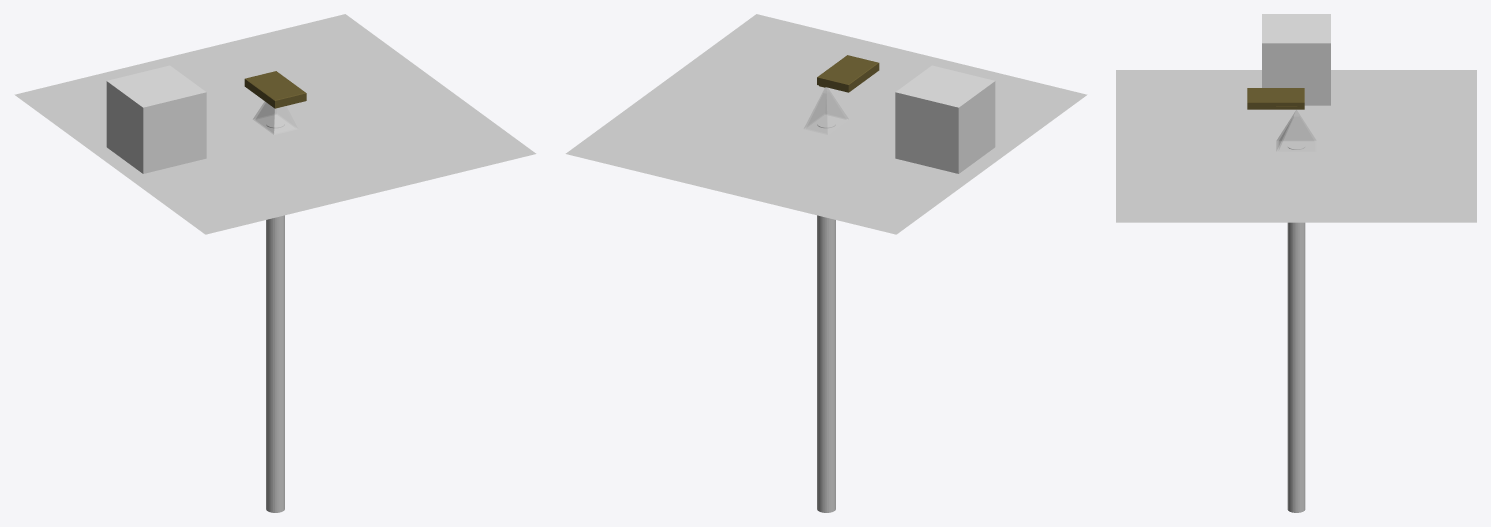
The model's file is 3dsceen03.glb.
The picture shows the model from 3 angles, left to right: view 1: azimuth 30°, elevation 25°; view 2: azimuth 150°, elevation 25°; view 3: azimuth 270°, elevation 25°; orthographic projection. The views are drawn at different scales.
Visible parts, largest first — view 1: Plane, Cube, MarkerCylinder, PhoneObj, CamView; view 2: Plane, Cube, MarkerCylinder, PhoneObj, CamView; view 3: Plane, MarkerCylinder, Cube, PhoneObj, CamView.
Part boxes in pixels (x1,y1,x2,y2): Plane: (14,14,536,234); Cube: (106,65,206,173); MarkerCylinder: (266,119,284,512); PhoneObj: (244,71,306,108); CamView: (253,102,297,134); Plane: (565,14,1087,234); Cube: (895,65,995,173); MarkerCylinder: (817,119,835,512); PhoneObj: (817,55,879,92); CamView: (804,87,848,134); Plane: (1116,70,1476,222); MarkerCylinder: (1287,142,1305,512); Cube: (1262,14,1330,105); PhoneObj: (1247,88,1304,109); CamView: (1276,110,1316,151).
Bounding box in the file's own units: 4.87 × 6.34 × 4.87.
